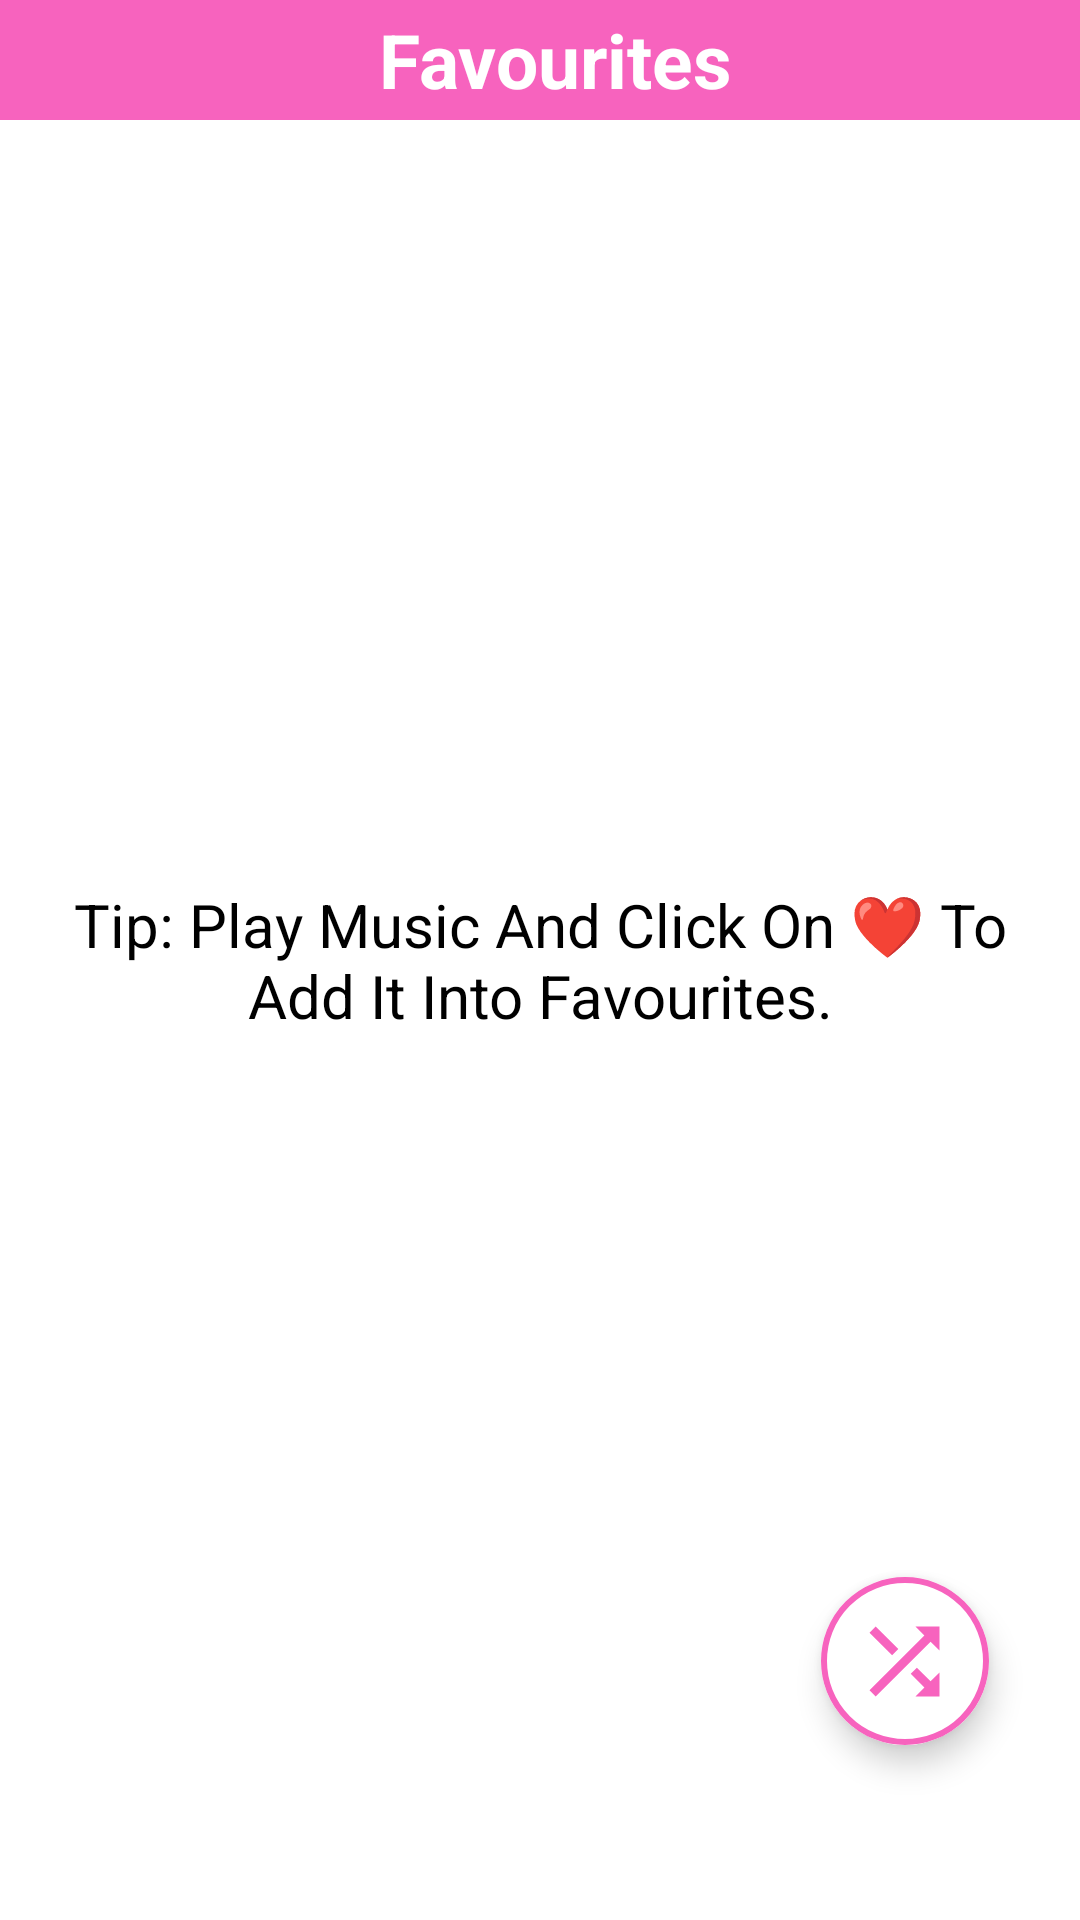

Icon bounding boxes for this 1080x1920 phone screenshot, format (x1, y1, x2, y2):
shuffle: (821, 1577, 989, 1745)
